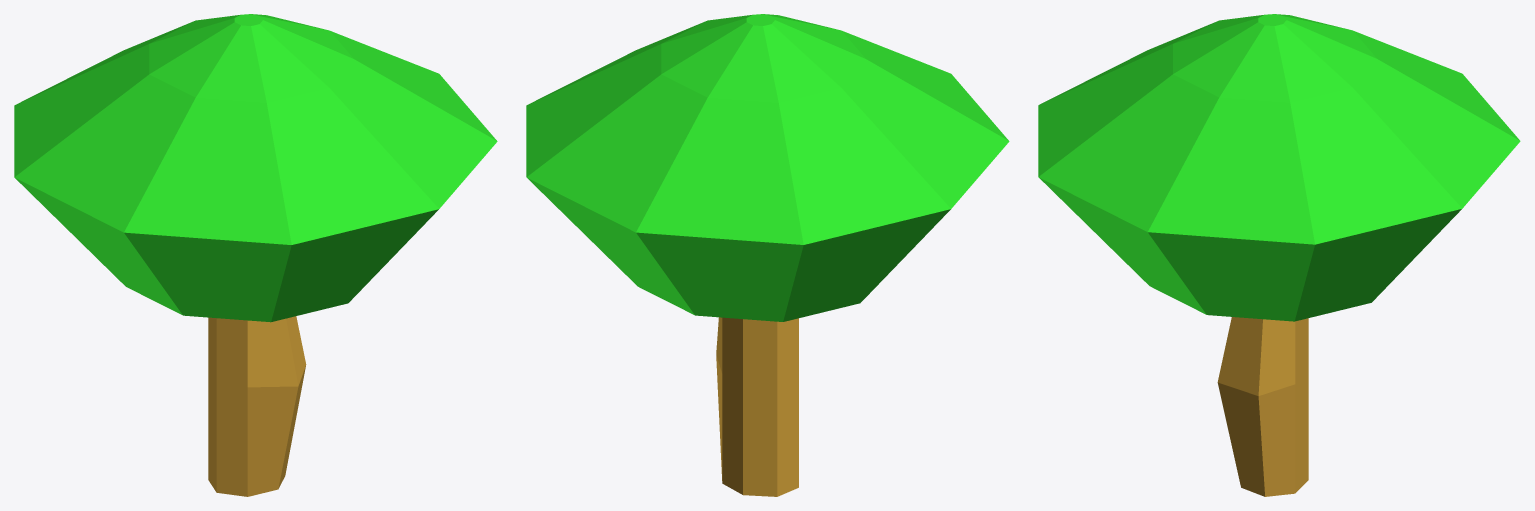
Rendered from tree3.fbx.
3 views of the same model, side by side, from view 1: azimuth 30°, elevation 25°; view 2: azimuth 150°, elevation 25°; view 3: azimuth 270°, elevation 25° (orthographic).
Visible parts, largest first — view 1: Cylinder.003; view 2: Cylinder.003; view 3: Cylinder.003.
Part boxes in pixels (box(x1,y1,x2,y2)): Cylinder.003: box(14, 14, 497, 496); Cylinder.003: box(526, 14, 1009, 496); Cylinder.003: box(1038, 14, 1520, 496).
Bounding box in the file's own units: 812 × 842 × 799.
